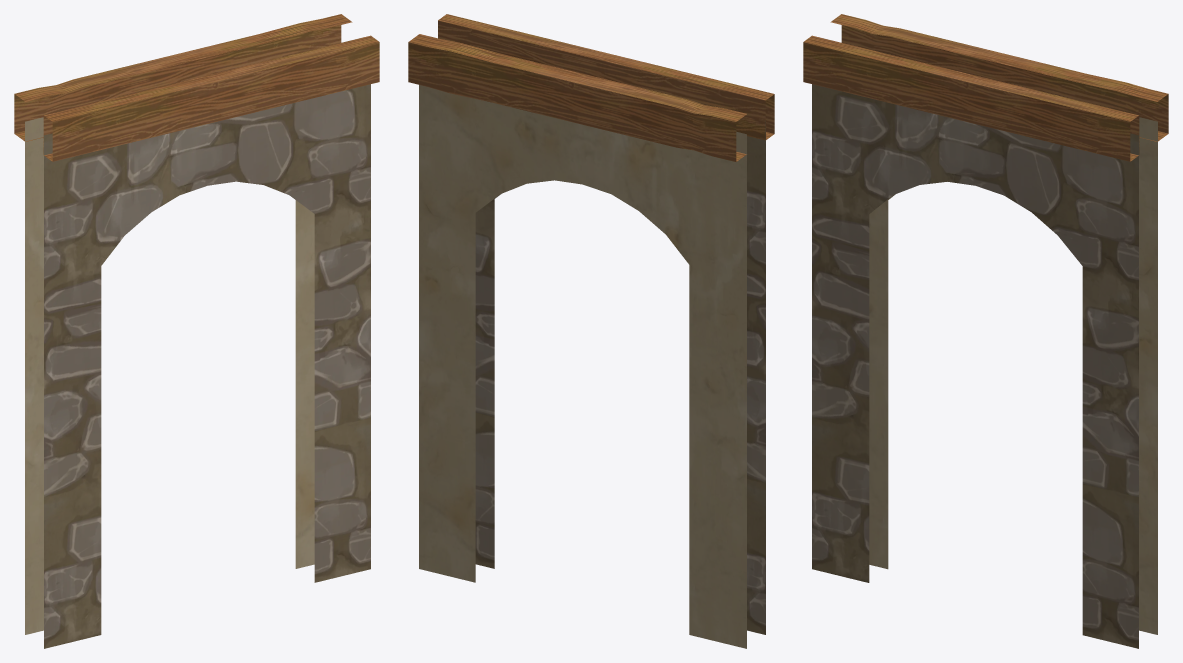
File: Wall_UnevenBrick_Door_Round.glb
3 views of the same model, side by side, from view 1: azimuth 30°, elevation 25°; view 2: azimuth 150°, elevation 25°; view 3: azimuth 330°, elevation 25° (orthographic).
Parts seen in each view (by area): view 1: Wall_UnevenBrick_Door_Round; view 2: Wall_UnevenBrick_Door_Round; view 3: Wall_UnevenBrick_Door_Round.
Part boxes in pixels (left/top/right/bottom): Wall_UnevenBrick_Door_Round: left=14, top=14, right=379, bottom=648; Wall_UnevenBrick_Door_Round: left=408, top=14, right=774, bottom=648; Wall_UnevenBrick_Door_Round: left=803, top=14, right=1168, bottom=648.
Size of the model in its own units: 2 by 3.12 by 0.4064.
Materials: 3 (3 with a texture image).
